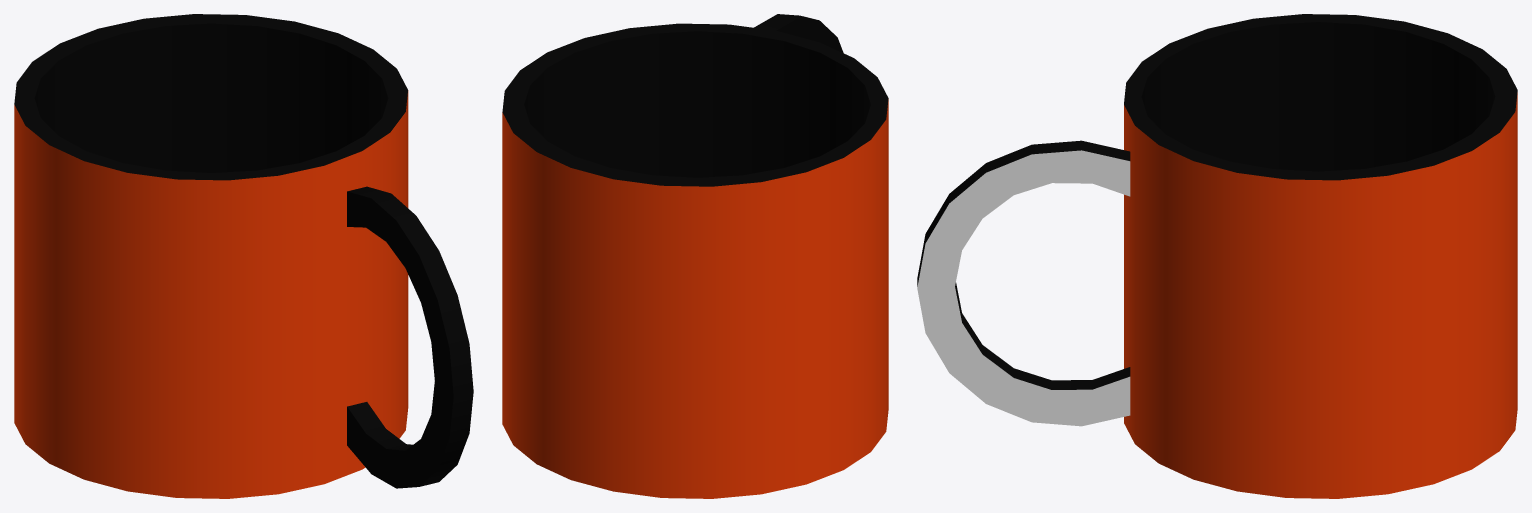
Rendered from mug_06_origin_gt_7.dae.
3 views of the same model, side by side, from view 1: azimuth 30°, elevation 25°; view 2: azimuth 150°, elevation 25°; view 3: azimuth 270°, elevation 25° (orthographic). The views are drawn at different scales.
Visible parts, largest first — view 1: SketchUp (×4); view 2: SketchUp (×4); view 3: SketchUp (×5).
Part boxes in pixels (box(x1,y1,x2,y2)): SketchUp (×4): box(14, 14, 473, 498); SketchUp (×4): box(502, 14, 888, 498); SketchUp (×5): box(917, 14, 1517, 498).
Bounding box in the file's own units: 4.37 × 6.66 × 3.9.
